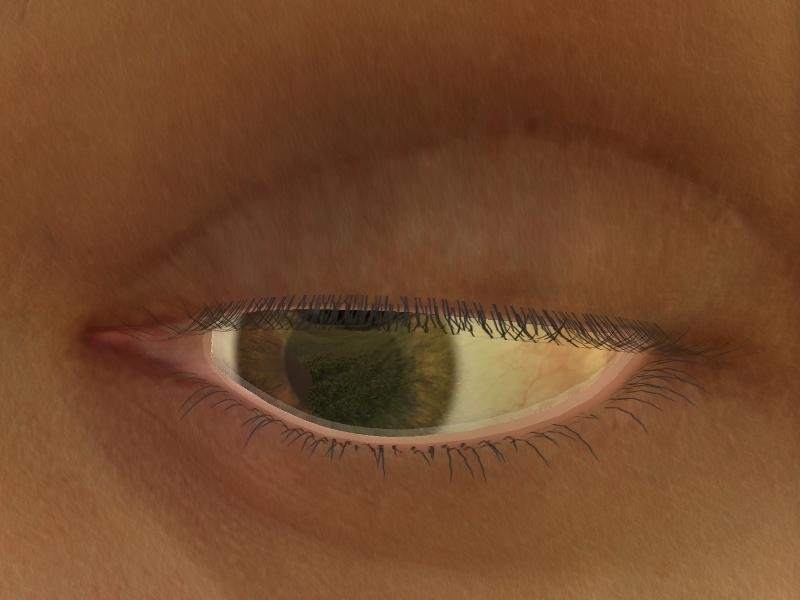eye: (237, 306, 452, 432)
